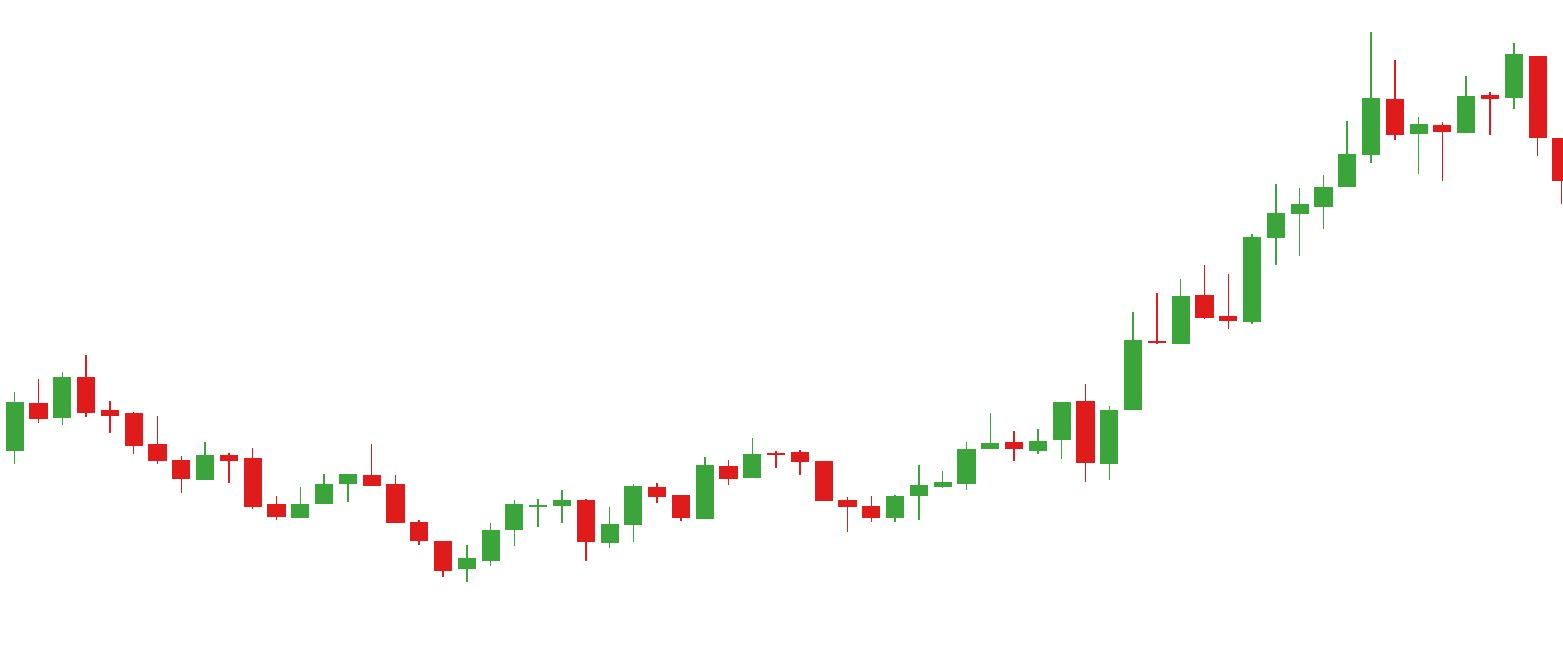buy: (669, 459, 908, 536)
sell: (1382, 46, 1547, 152)
